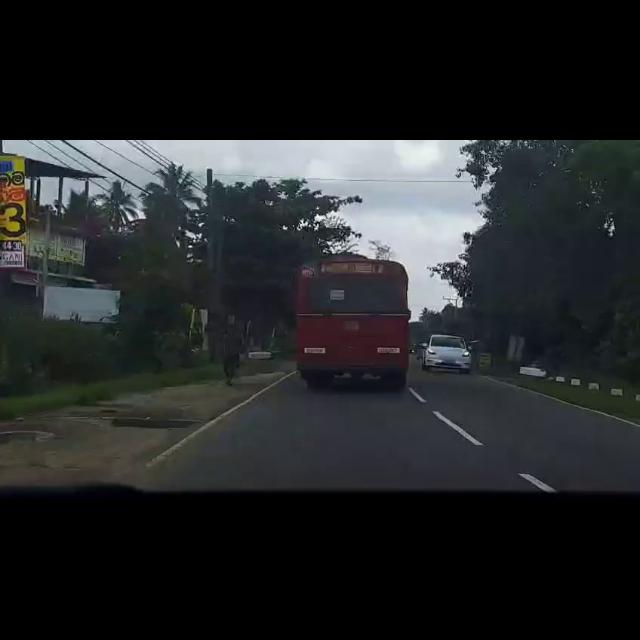broken_line: (407, 394, 557, 491)
bus: (301, 264, 404, 382)
car: (428, 335, 467, 369)
